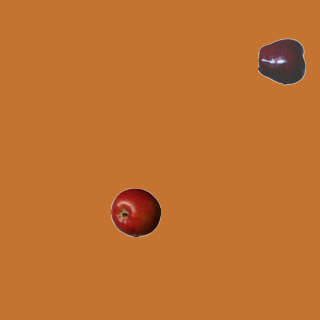Apple Braeburn: (110, 187, 160, 237)
Apple Red Delicious: (257, 36, 307, 86)
